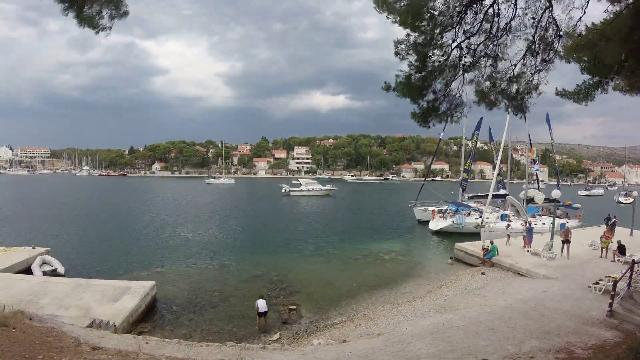Sailboat: (201, 172, 241, 188)
ferry: (276, 174, 342, 200)
